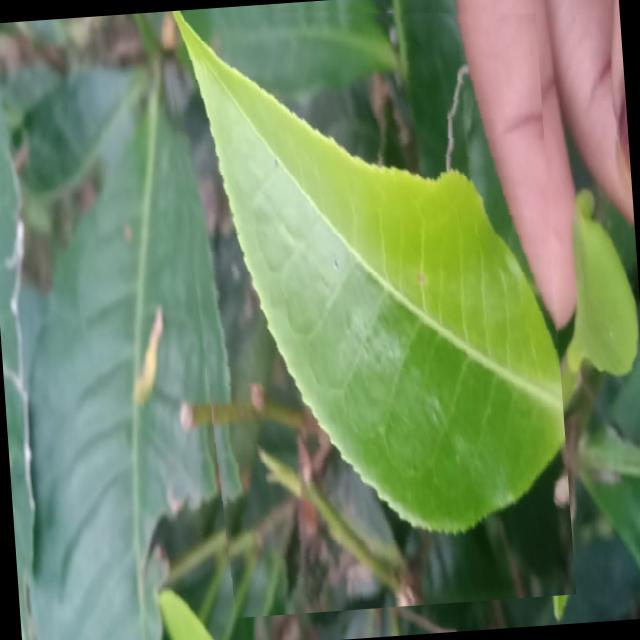Category B(2-4 days): (162, 0, 576, 618)
